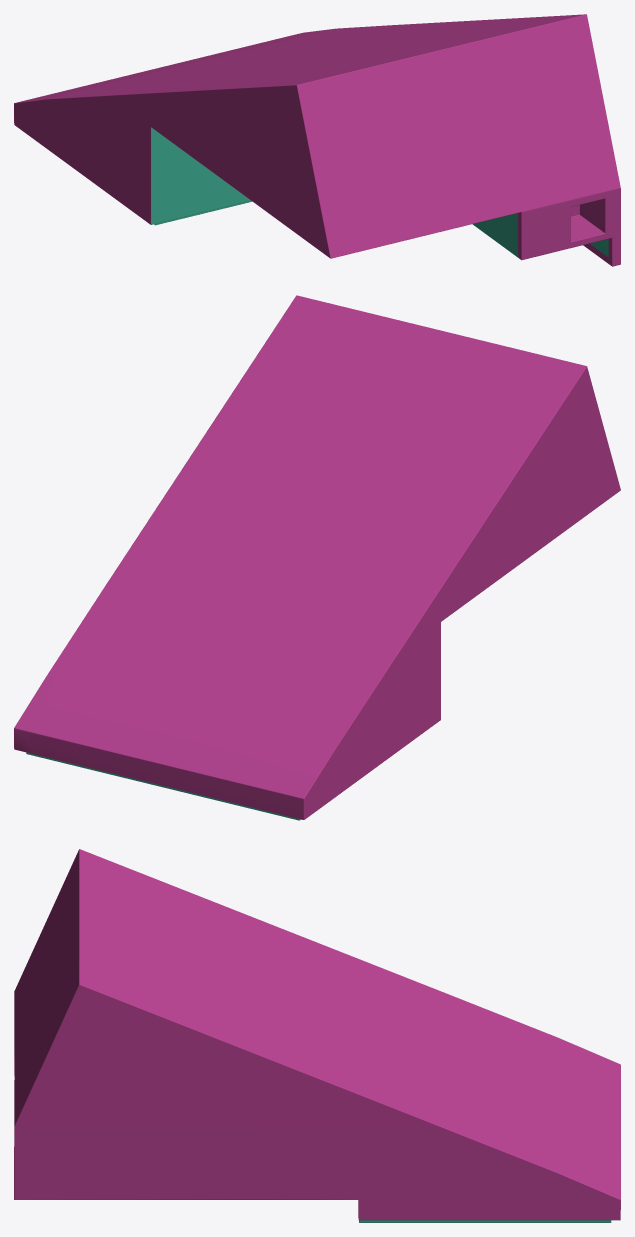
File: StructureReceptionCeiling_01_Mesh.fbx
3 views of the same model, one above another, from view 1: azimuth 30°, elevation 25°; view 2: azimuth 150°, elevation 25°; view 3: azimuth 270°, elevation 25° (orthographic). The views are drawn at different scales.
Visible parts, largest first — view 1: StructureReceptionCeiling_01; view 2: StructureReceptionCeiling_01; view 3: StructureReceptionCeiling_01.
Boxes of the visible parts, left/top/right/bottom form: StructureReceptionCeiling_01: left=14, top=14, right=620, bottom=266; StructureReceptionCeiling_01: left=14, top=295, right=620, bottom=820; StructureReceptionCeiling_01: left=14, top=849, right=620, bottom=1222.
Size of the model in its own units: 572 by 476 by 1081.
